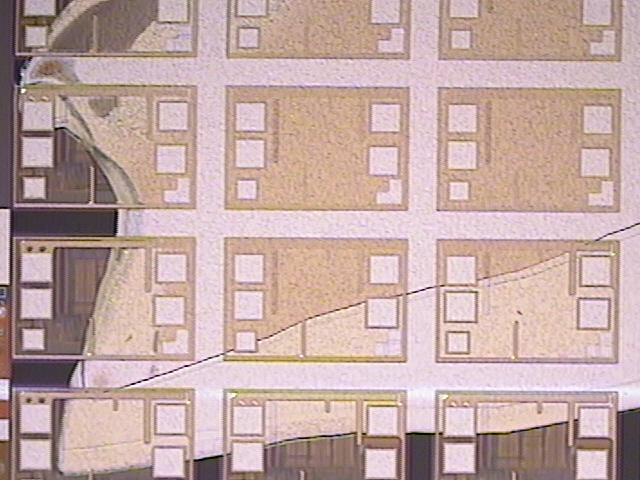BLOCK ETCH: (18, 1, 640, 479)
